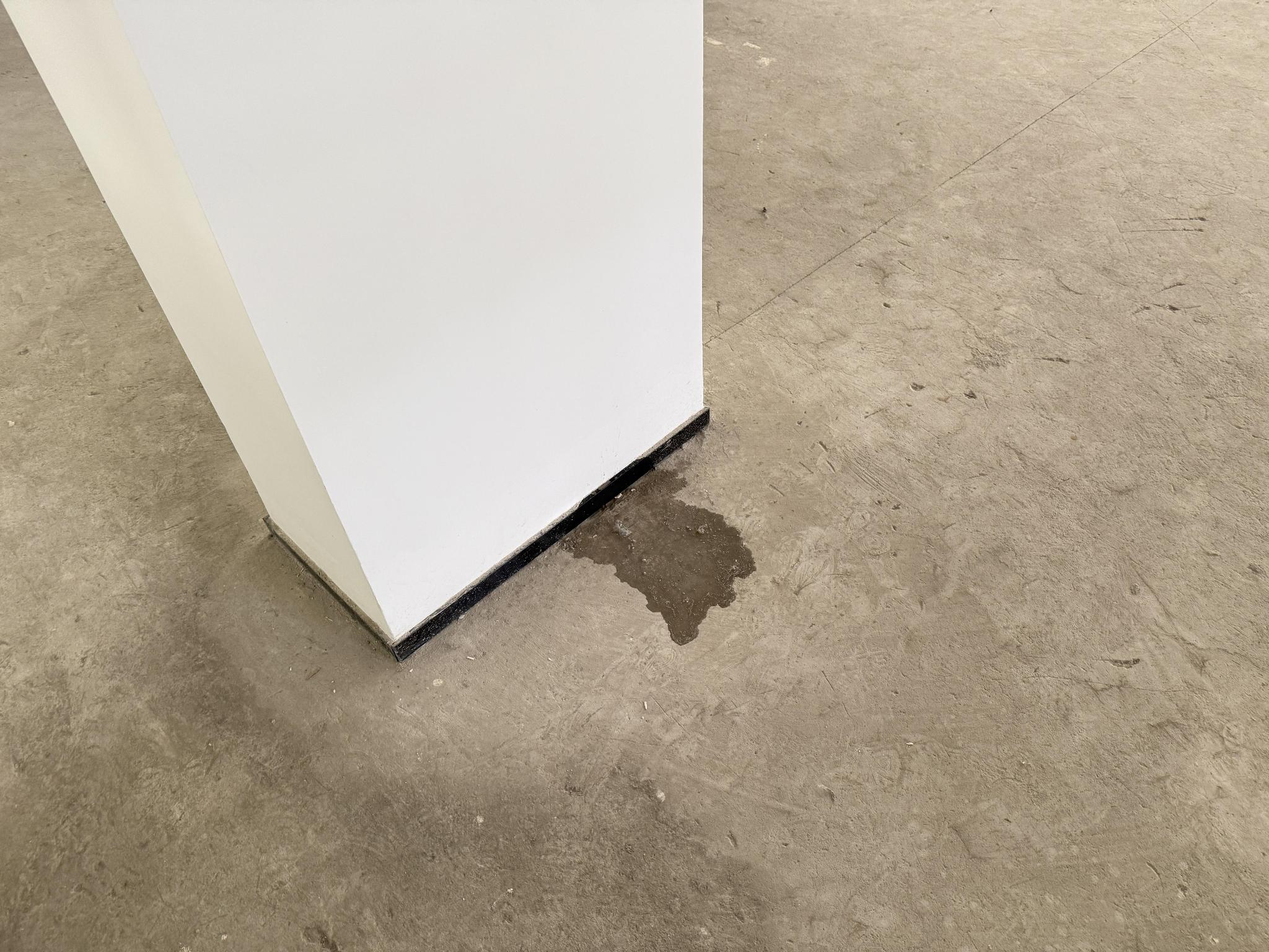water accumulation: (566, 471, 755, 644)
